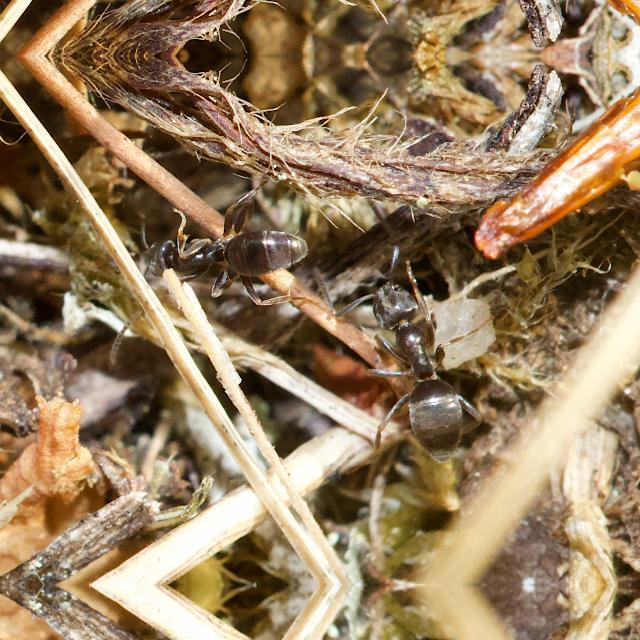Tapinoma: (334, 248, 506, 472), (122, 211, 314, 303)
